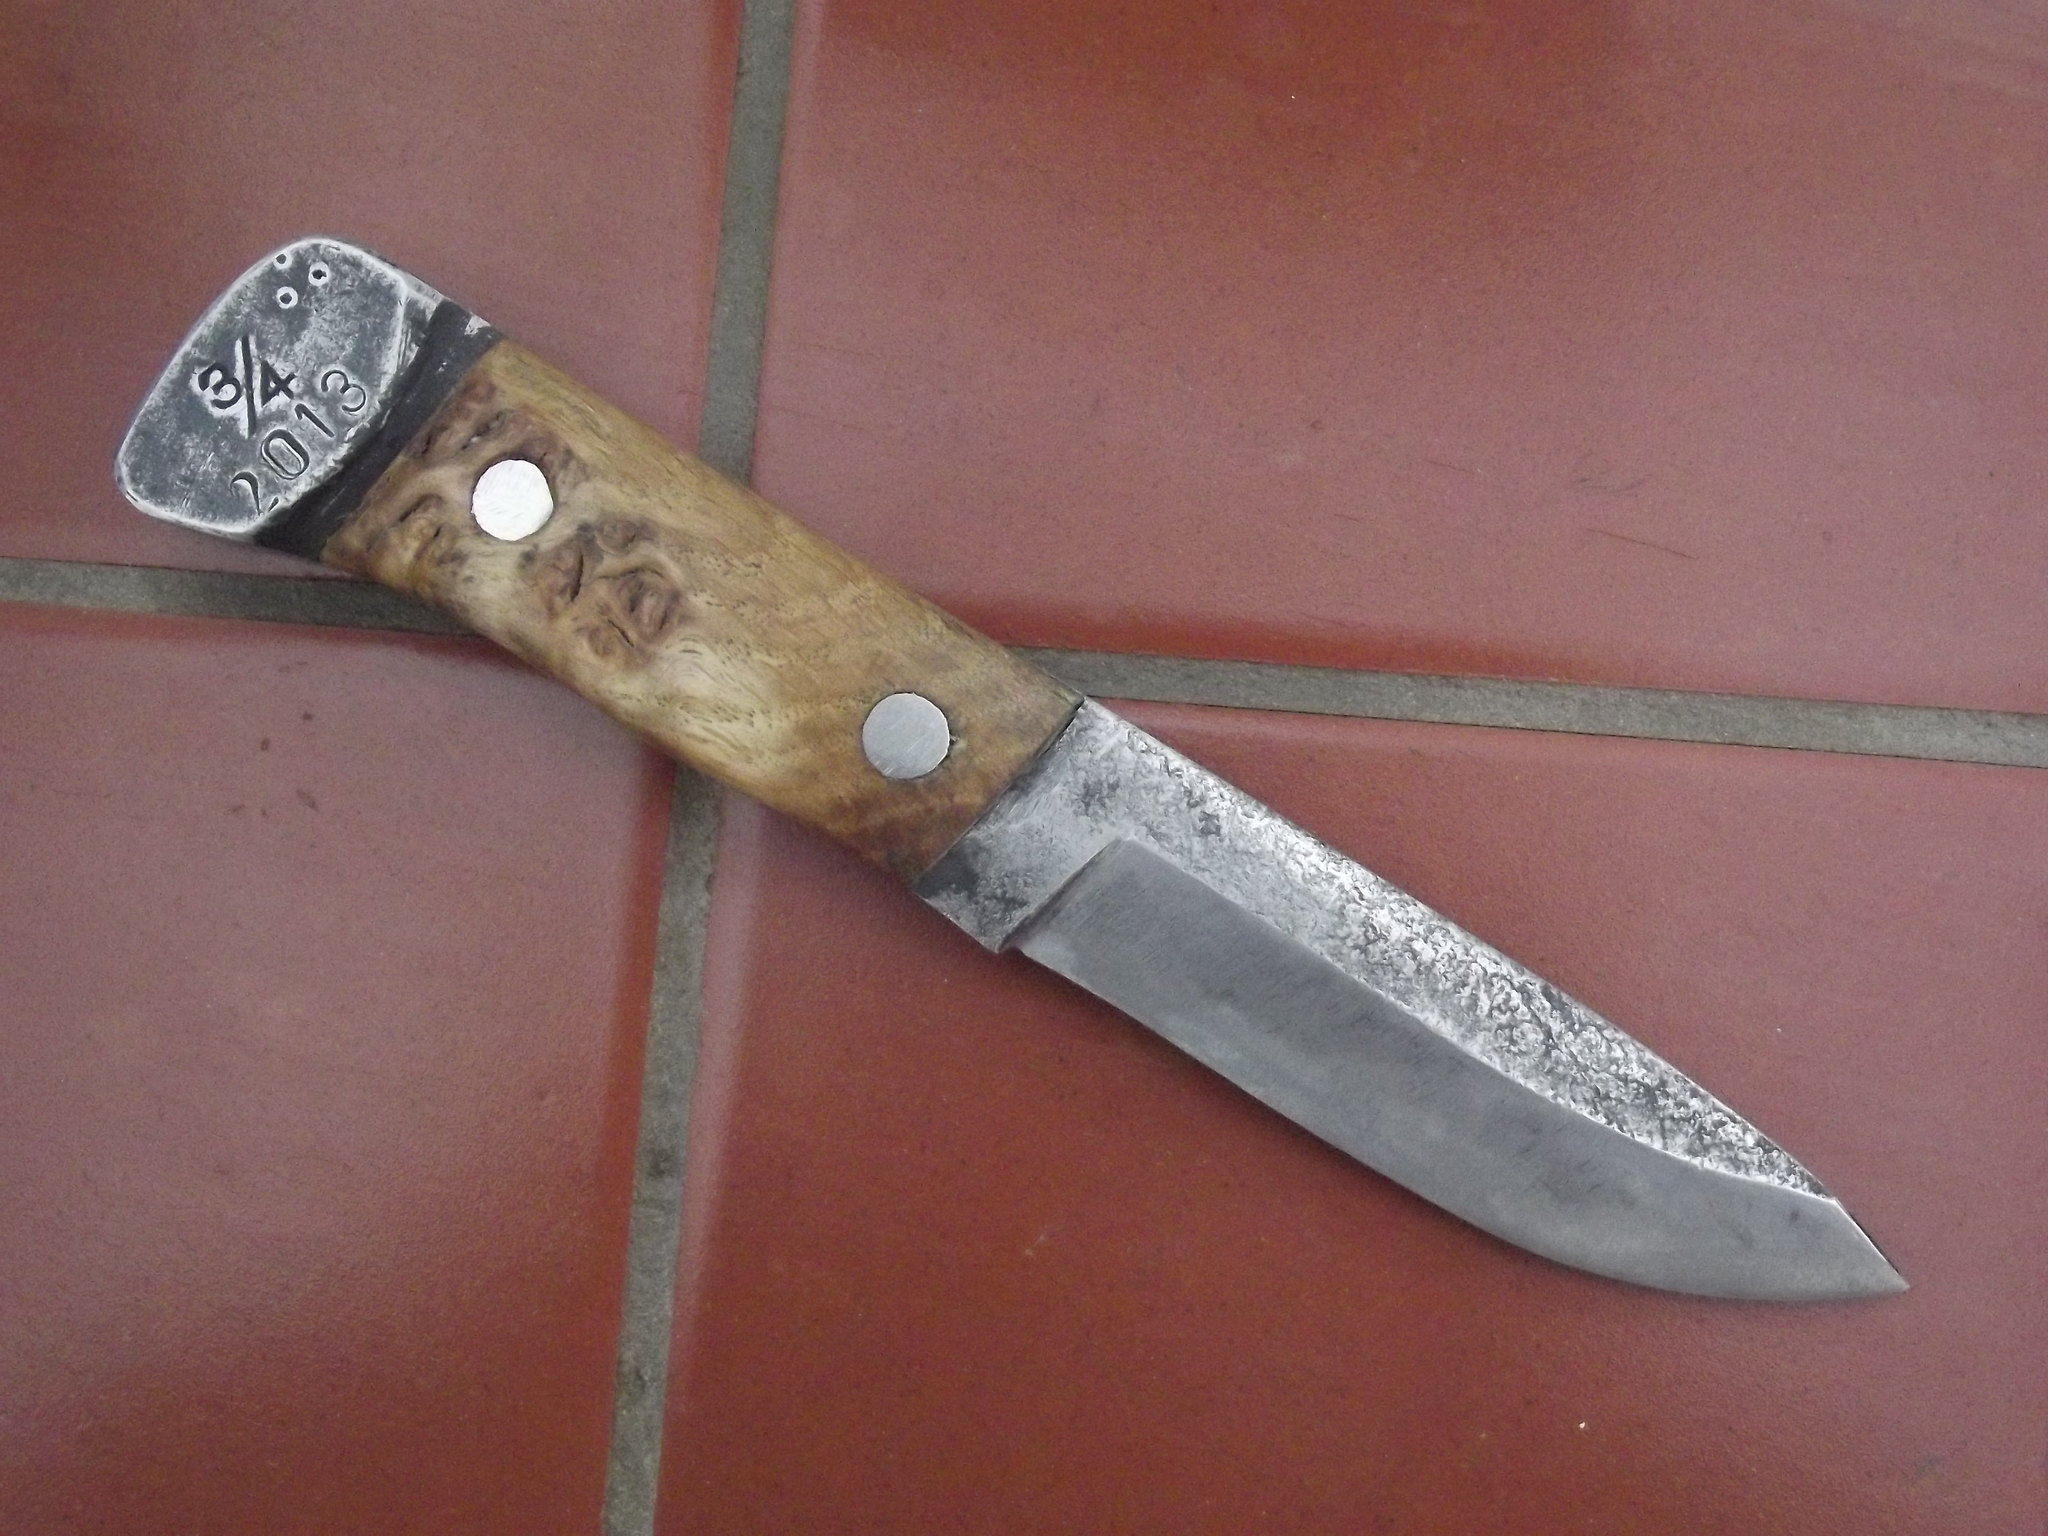knife: (90, 223, 1921, 1354)
